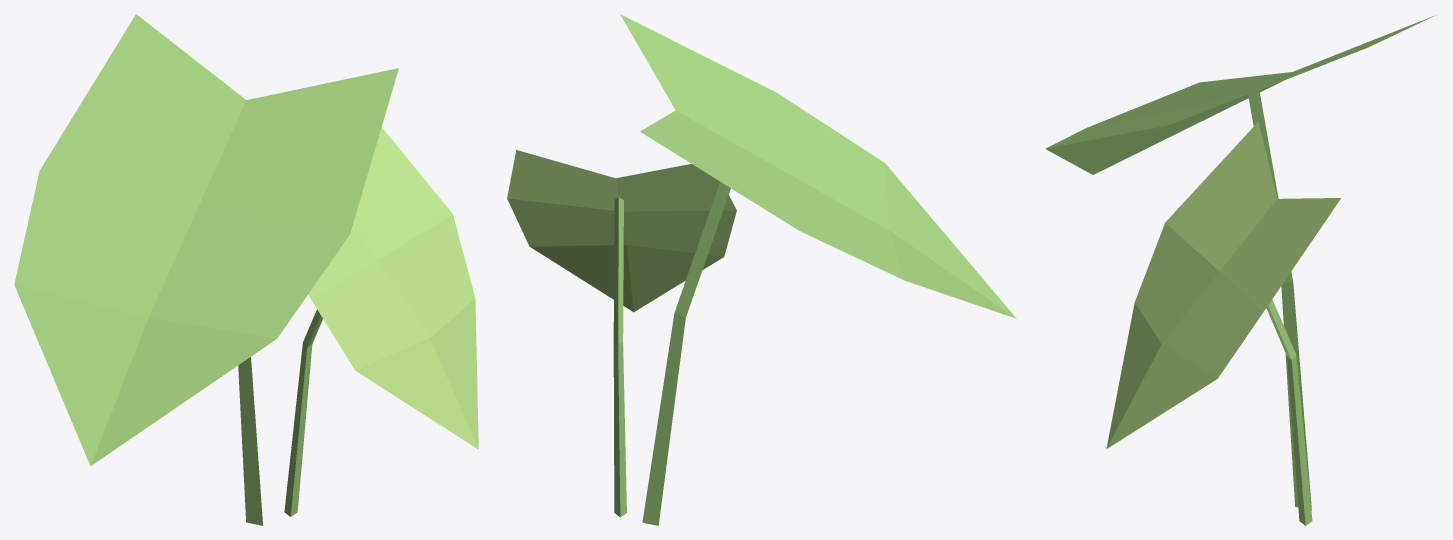
Rendered from Plant_c_OneS_02.fbx.
3 renders of one model, left to right at view 1: azimuth 30°, elevation 25°; view 2: azimuth 150°, elevation 25°; view 3: azimuth 270°, elevation 25°, orthographic. The views are drawn at different scales.
Visible parts, largest first — view 1: Plant_c_OneS_02; view 2: Plant_c_OneS_02; view 3: Plant_c_OneS_02.
Part boxes in pixels (left/top/right/bottom): Plant_c_OneS_02: left=14, top=14, right=478, bottom=525; Plant_c_OneS_02: left=507, top=14, right=1016, bottom=525; Plant_c_OneS_02: left=1045, top=15, right=1435, bottom=525.
Size of the model in its own units: 0.561 by 0.5642 by 0.4316.
